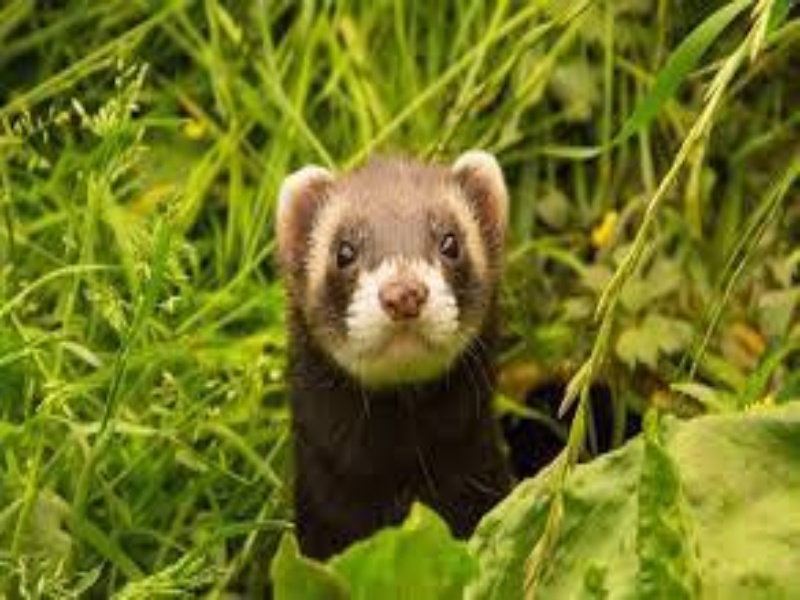minkish: (275, 144, 516, 557)
